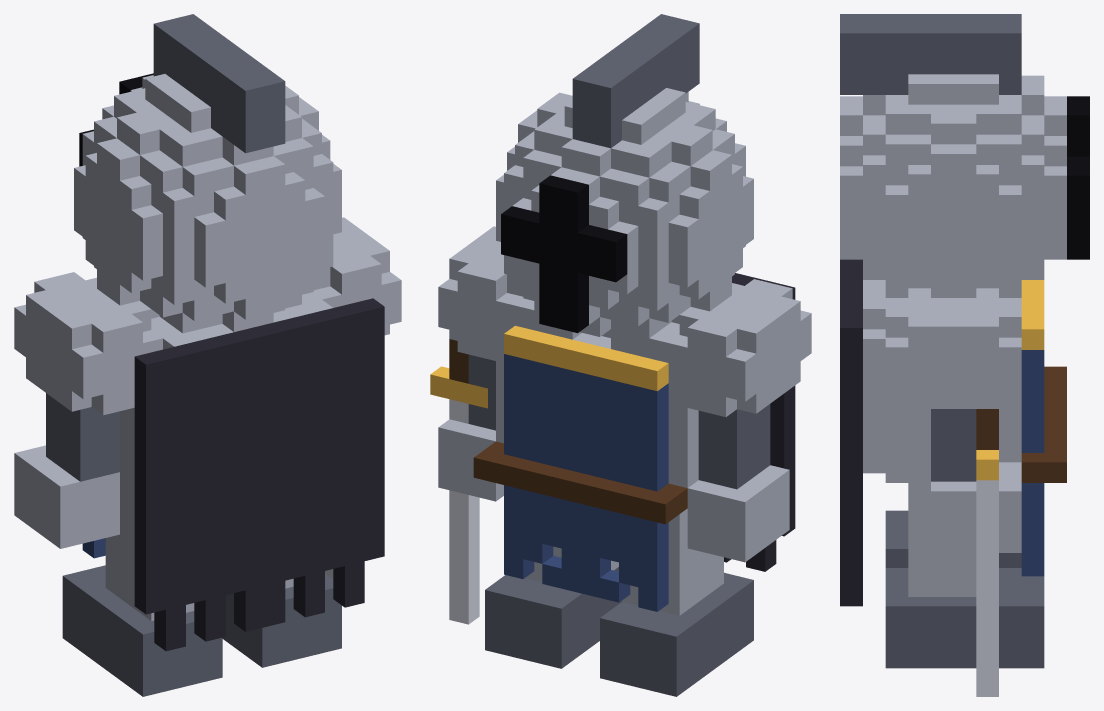
The model's file is sinluz.obj.
The picture shows the model from 3 angles, left to right: view 1: azimuth 30°, elevation 25°; view 2: azimuth 150°, elevation 25°; view 3: azimuth 270°, elevation 25°; orthographic projection. The views are drawn at different scales.
Parts seen in each view (by area): view 1: capa, casco, hombreras, botas, cresta, guanteletes, brazos, torso, piernas; view 2: casco, sobreveste, hombreras, botas, visera, guanteletes, cresta, cinturon, brazos, torso, sobreveste_orilla, hoja (+4 smaller); view 3: casco, hombreras, botas, cresta, torso, capa, guanteletes, hoja, sobreveste, piernas, visera, cinturon (+4 smaller).
Part boxes in pixels (x1,y1,x2,y2): capa: (134,298,384,651); casco: (74,74,341,333); hombreras: (14,217,401,415); botas: (62,565,341,696); cresta: (153,14,285,153); guanteletes: (14,445,119,548); brazos: (46,393,119,481); torso: (120,292,332,503); piernas: (105,493,293,621); casco: (496,88,753,338); sobreveste: (504,354,668,611); hombreras: (438,226,811,416); botas: (485,567,753,696); visera: (501,175,627,333); guanteletes: (438,419,789,562); cresta: (572,14,699,148); cinturon: (473,441,687,524); brazos: (468,354,770,489); torso: (496,283,743,487); sobreveste_orilla: (504,325,668,391); hoja: (449,399,479,624); casco: (840,74,1066,297); hombreras: (885,288,1021,408); botas: (885,510,1044,668); cresta: (840,14,1021,94); torso: (863,280,1021,482); capa: (840,259,862,606); guanteletes: (931,462,1021,552); hoja: (976,480,998,696); sobreveste: (1021,350,1044,576); piernas: (908,483,976,596); visera: (1067,96,1089,259); cinturon: (1021,366,1066,482).
Bounding box in the file's own units: 0.68 × 1.16 × 0.44.
